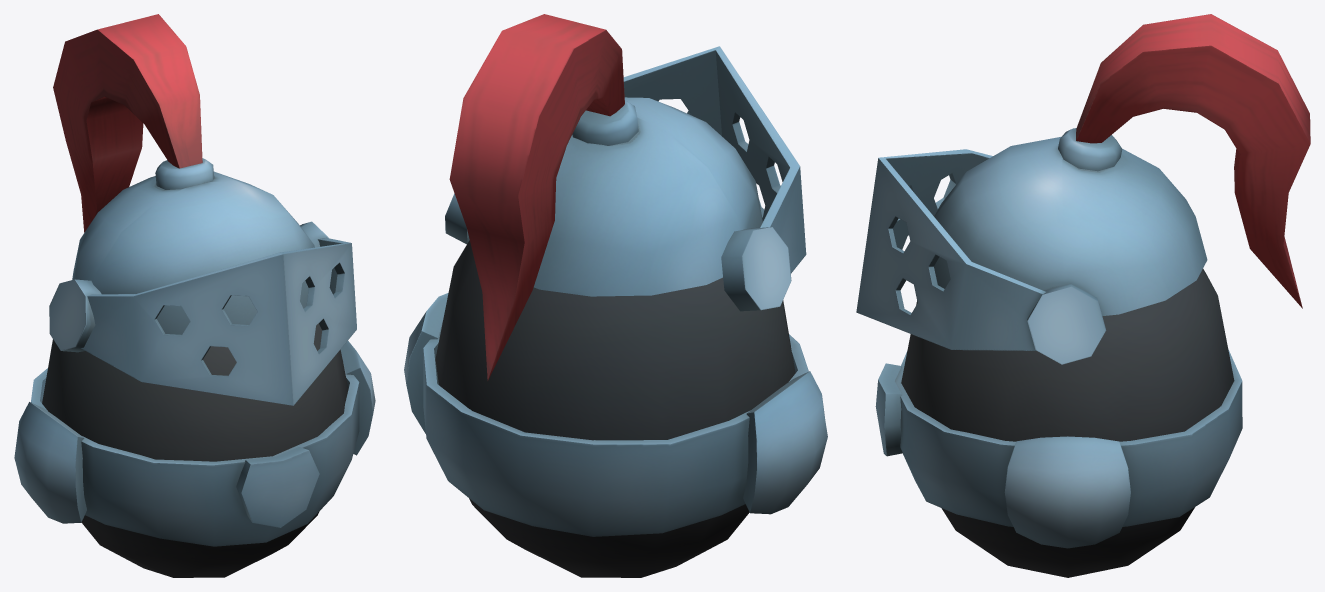
File: Egg2-Knight-Map1.fbx
3 views of the same model, side by side, from view 1: azimuth 30°, elevation 25°; view 2: azimuth 150°, elevation 25°; view 3: azimuth 270°, elevation 25° (orthographic). The views are drawn at different scales.
Visible parts, largest first — view 1: Egg2-Knight-Map1; view 2: Egg2-Knight-Map1; view 3: Egg2-Knight-Map1.
Boxes of the visible parts, box(x1,y1,x2,y2) form: Egg2-Knight-Map1: box(14, 14, 375, 577); Egg2-Knight-Map1: box(404, 14, 827, 577); Egg2-Knight-Map1: box(856, 14, 1310, 577).
Bounding box in the file's own units: 438 × 612 × 472.
